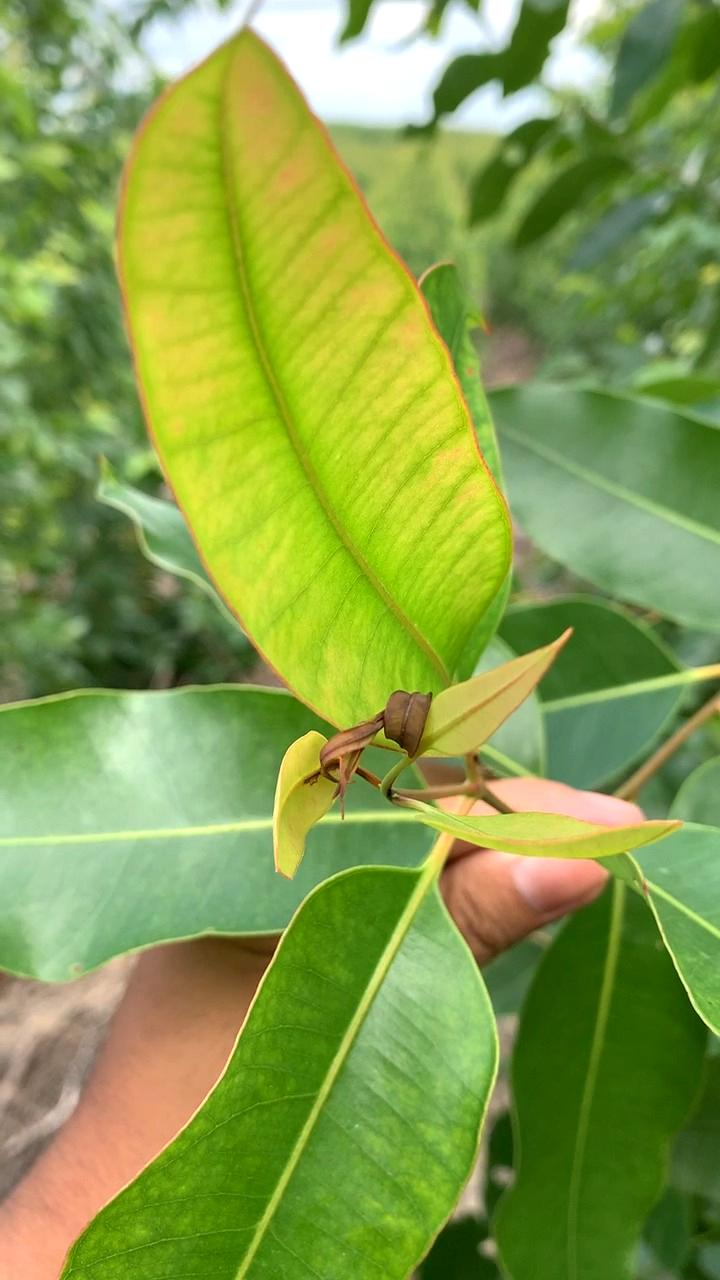Helopeltis-Withered Sprout: (299, 658, 456, 825)
